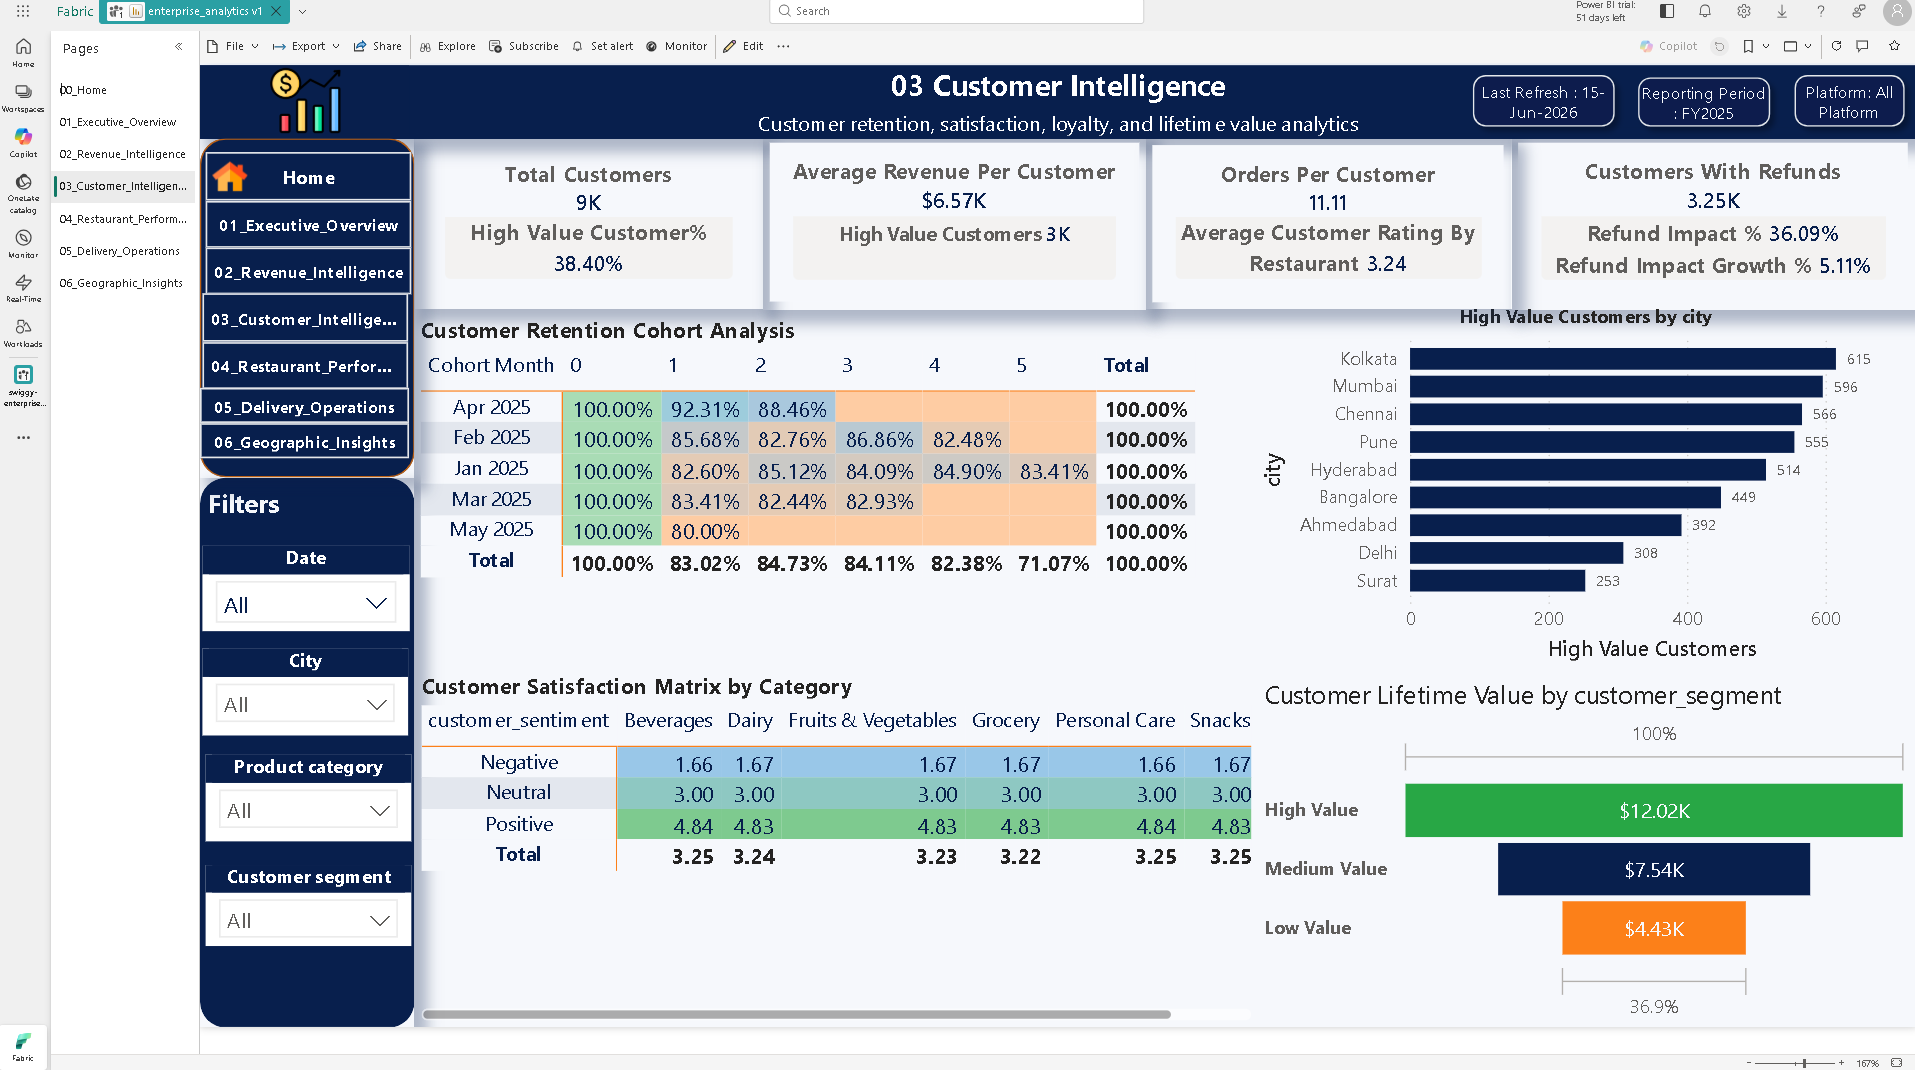

The dashboard page shown, as its layout file describes it:
{"tool":"powerbi","page":{"name":"03_Customer_Intelligence","canvas":[1280,720],"ordinal":3},"visuals":[{"type":"cardVisual","fields":{"Data":["dim_customers.Total Customers"]},"box":[159.9,56.3,259.9,127.2],"z":0},{"type":"shape","title":"03 Customer Intelligence","box":[0,1.8,1279.5,54.5],"z":1000},{"type":"shape","box":[939.7,0,123.6,56.3],"z":2000},{"type":"shape","box":[1063.3,1.8,116.3,54.5],"z":3000},{"type":"shape","box":[1179.6,0,100,56.3],"z":4000},{"type":"image","box":[0,1.8,156.3,52.7],"z":5000},{"type":"shape","title":"Filters","box":[0,309.2,159.9,410.8],"z":6000},{"type":"cardVisual","fields":{"Data":["Measure_Table.Average Revenue Per Customer"]},"box":[419.9,54.5,285.4,129],"z":7000},{"type":"cardVisual","fields":{"Data":["dim_customers.Customers With Refunds"]},"box":[977.8,54.5,301.7,129],"z":8000},{"type":"barChart","fields":{"Y":["dim_customers.High Value Customers"],"Category":["dim_restaurants.city"]},"box":[787,179.9,492.6,270.8],"z":9000},{"type":"cardVisual","fields":{"Data":["fact_orders.Orders Per Customer"]},"box":[705.2,56.3,272.6,127.2],"z":10000},{"type":"pivotTable","title":"Customer Satisfaction Matrix by Category","fields":{"Rows":["fact_orders.customer_sentiment"],"Columns":["fact_orders.product_category"],"Values":["Measure_Table.Average Service Rating"]},"box":[159.9,452.6,628.9,267.2],"z":11000},{"type":"pivotTable","title":"Customer Retention Cohort Analysis","fields":{"Rows":["fact_orders.Cohort Month"],"Columns":["fact_orders.Month Number"],"Values":["fact_orders.Retention %"]},"box":[159.6,187.9,628.2,262.6],"z":12000},{"type":"funnel","fields":{"Category":["dim_customers.customer_segment"],"Y":["dim_customers.Customer Lifetime Value"]},"box":[788.8,458,490.7,261.7],"z":13000},{"type":"shape","box":[0,56.3,159.9,252.6],"z":14000},{"type":"actionButton","title":"Home","box":[4,66.6,153.5,36.4],"z":15000},{"type":"actionButton","title":"01_Executive_Overview","box":[4,103,153.5,34.3],"z":16000},{"type":"actionButton","title":"02_Revenue_Intelligence","box":[4,137.3,153.5,34.3],"z":17000},{"type":"actionButton","title":"03_Customer_Intelligence","box":[2,171.7,153.5,36.4],"z":18000},{"type":"actionButton","title":"04_Restaurant_Performance","box":[2,208,153.5,34.3],"z":19000},{"type":"actionButton","title":"05_Delivery_Operations","box":[0,242.4,155.5,26.3],"z":20000},{"type":"actionButton","title":"05_Delivery_Operations","box":[0,268.6,155.5,26.3],"z":21000},{"type":"slicer","title":"Date","fields":{"Values":["dim_date.month_year","dim_date.weekday_name"]},"box":[1.8,359.9,154.5,63.6],"z":22000},{"type":"slicer","title":"City","fields":{"Values":["dim_restaurants.city"]},"box":[2,436.3,153.5,64.6],"z":23000},{"type":"slicer","title":"Product category","fields":{"Values":["fact_orders.product_category"]},"box":[4,515.1,153.5,64.6],"z":24000},{"type":"slicer","title":"Customer segment","fields":{"Values":["dim_customers.customer_segment"]},"box":[4,597.9,153.5,60.6],"z":25000}]}

Visuals, with their boxes on the page's 1280x720 design canvas (x1, y1, x2, y2). These are canvas units, not pixel positions in the 1915x1070 screenshot, which may show the page scaled, cropped or inside an application window:
cardVisual - dim_customers.Total Customers: <region>160, 56, 420, 184</region>
"03 Customer Intelligence" shape: <region>0, 2, 1280, 56</region>
shape: <region>940, 0, 1063, 56</region>
shape: <region>1063, 2, 1180, 56</region>
shape: <region>1180, 0, 1280, 56</region>
image: <region>0, 2, 156, 54</region>
"Filters" shape: <region>0, 309, 160, 720</region>
cardVisual - Measure_Table.Average Revenue Per Customer: <region>420, 54, 705, 184</region>
cardVisual - dim_customers.Customers With Refunds: <region>978, 54, 1280, 184</region>
barChart - dim_customers.High Value Customers x dim_restaurants.city: <region>787, 180, 1280, 451</region>
cardVisual - fact_orders.Orders Per Customer: <region>705, 56, 978, 184</region>
"Customer Satisfaction Matrix by Category" pivotTable: <region>160, 453, 789, 720</region>
"Customer Retention Cohort Analysis" pivotTable: <region>160, 188, 788, 450</region>
funnel - dim_customers.customer_segment x dim_customers.Customer Lifetime Value: <region>789, 458, 1280, 720</region>
shape: <region>0, 56, 160, 309</region>
"Home" actionButton: <region>4, 67, 158, 103</region>
"01_Executive_Overview" actionButton: <region>4, 103, 158, 137</region>
"02_Revenue_Intelligence" actionButton: <region>4, 137, 158, 172</region>
"03_Customer_Intelligence" actionButton: <region>2, 172, 156, 208</region>
"04_Restaurant_Performance" actionButton: <region>2, 208, 156, 242</region>
"05_Delivery_Operations" actionButton: <region>0, 242, 156, 269</region>
"05_Delivery_Operations" actionButton: <region>0, 269, 156, 295</region>
"Date" slicer: <region>2, 360, 156, 424</region>
"City" slicer: <region>2, 436, 156, 501</region>
"Product category" slicer: <region>4, 515, 158, 580</region>
"Customer segment" slicer: <region>4, 598, 158, 658</region>
